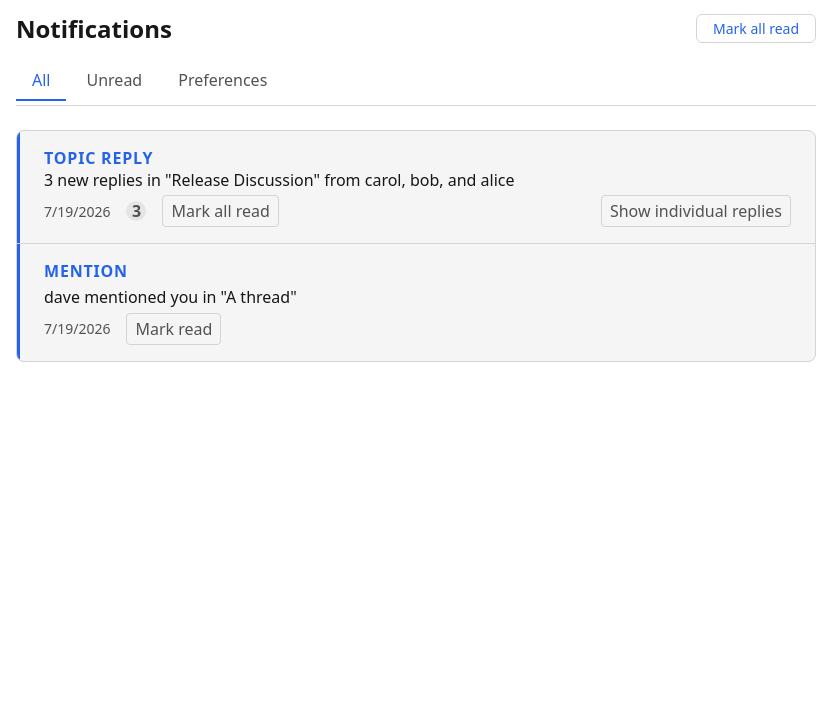
Scenario: NotificationsPage grouping (BE-9.14) › individual notifications are hidden until the group is expanded
Expected: the text "3 new replies in \"Release Discussion\" from carol, bob, and alice" is shown, [44,169,514,191]
Expected: the text "carol posted in" is not shown
Click the button "Show individual replies" at (696, 211), box [601,195,791,227]
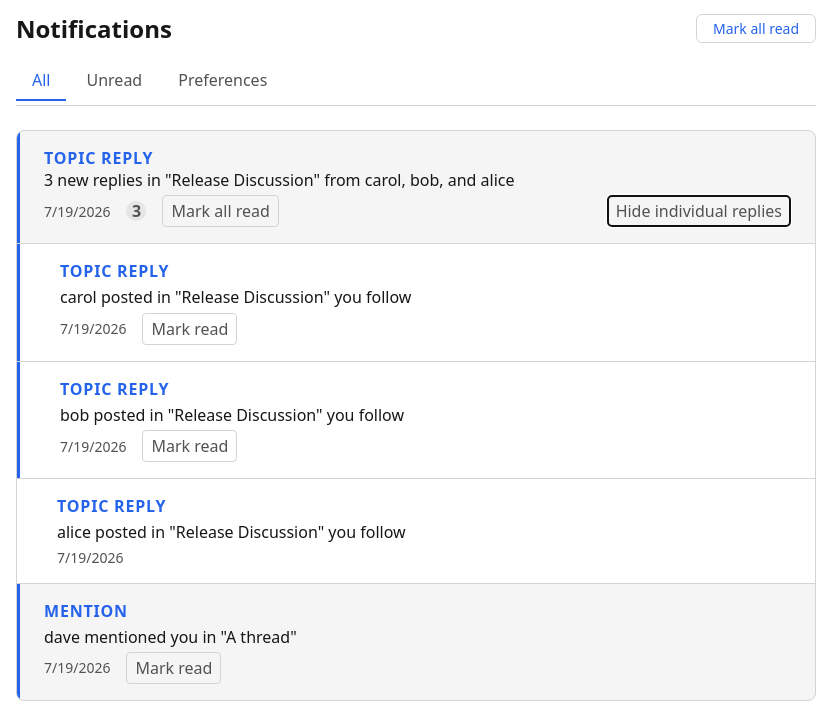
Now the text "carol posted in \"Release Discussion\" you follow" is shown, box [60,286,411,308]
Now the text "bob posted in \"Release Discussion\" you follow" is shown, box [60,404,404,426]
Now the text "alice posted in \"Release Discussion\" you follow" is shown, box [57,521,406,543]
// Collapses back on a second click.
Click the button "Hide individual replies" at (699, 211), box [607,195,791,227]
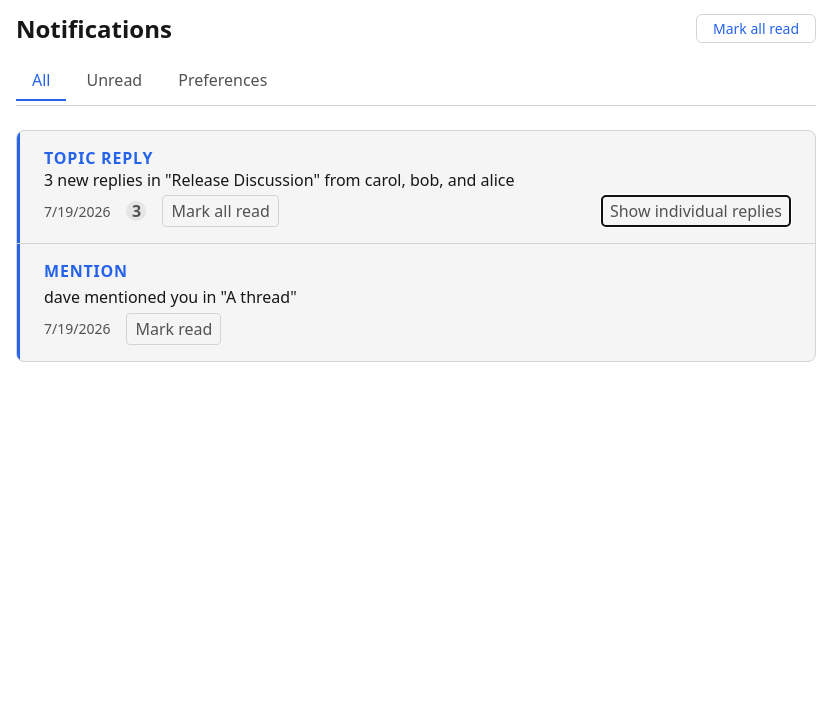
Now the link "carol posted in" is gone
